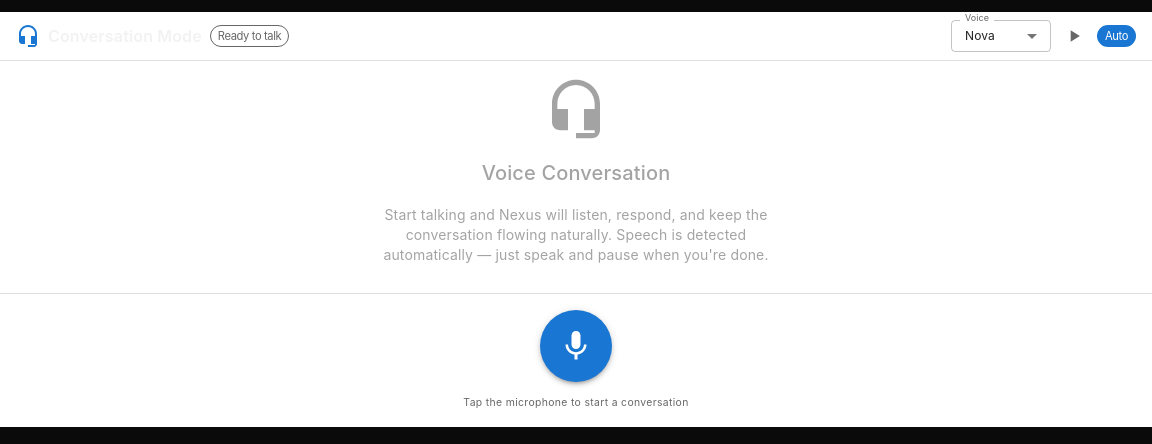
ConversationMode — Interrupt / Barge-in › interrupted assistant response is marked with ⸺
Click the button with test id "MicIcon".
click(576, 346)  # box [540, 310, 612, 382]
Wait 3100 ms
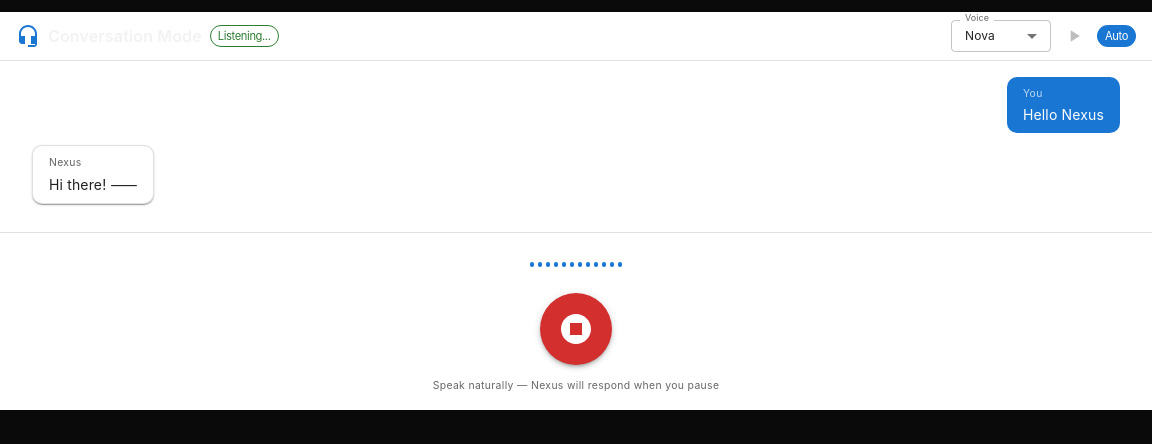
Now the text "⸺" is shown, box [49, 176, 138, 192]
